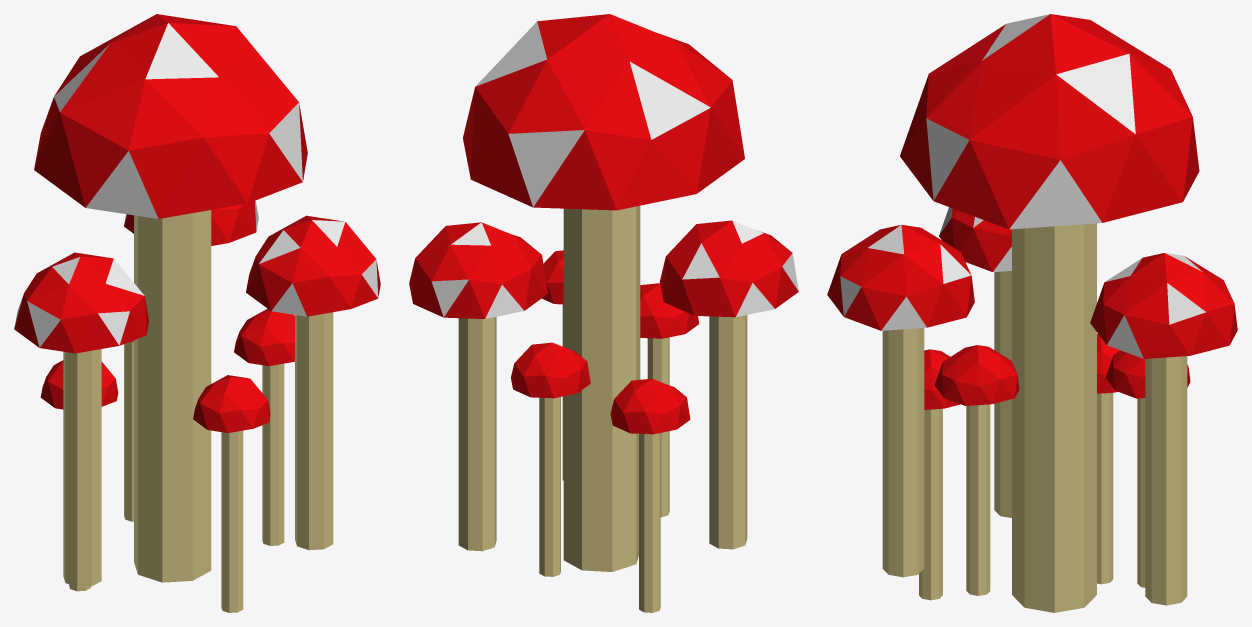
File: Mushrooms.fbx
The picture shows the model from 3 angles, left to right: view 1: azimuth 30°, elevation 25°; view 2: azimuth 150°, elevation 25°; view 3: azimuth 270°, elevation 25°; orthographic projection. The views are drawn at different scales.
Parts seen in each view (by area): view 1: Cylinder; view 2: Cylinder; view 3: Cylinder.
Boxes of the visible parts, x1,y1,x2,y2 form: Cylinder: [14, 14, 380, 612]; Cylinder: [409, 14, 798, 612]; Cylinder: [827, 14, 1237, 612].
Size of the model in its own units: 238 by 434 by 270.
